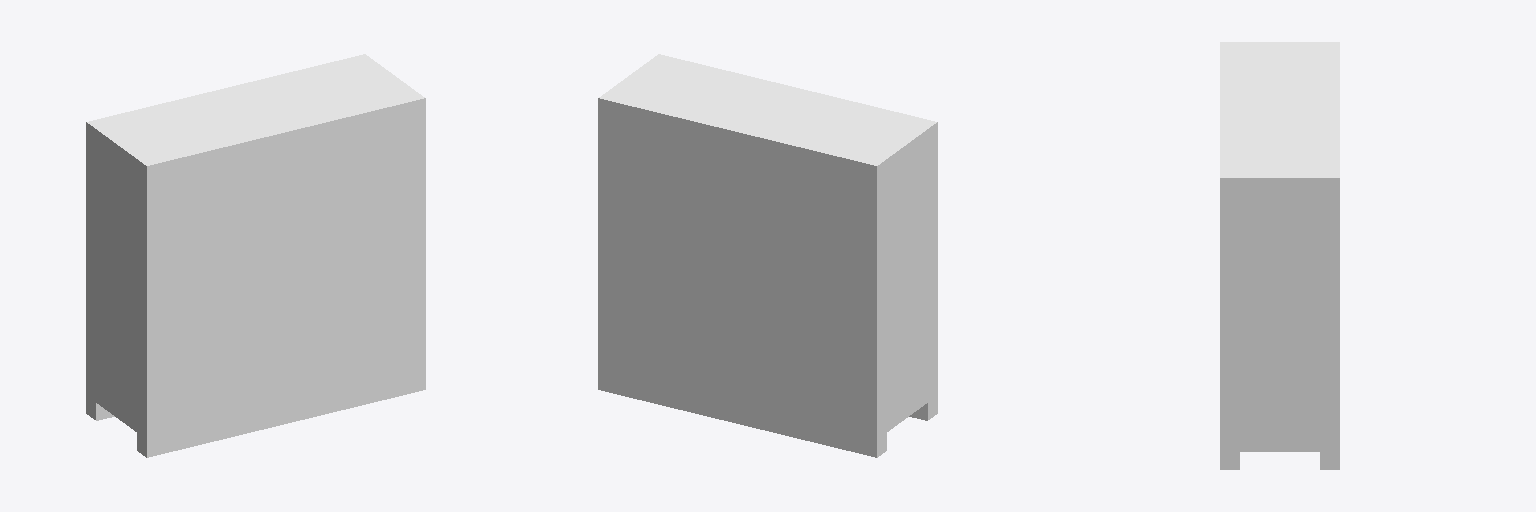
Rendered from civil2-5.obj.
The picture shows the model from 3 angles: view 1: azimuth 30°, elevation 25°; view 2: azimuth 150°, elevation 25°; view 3: azimuth 270°, elevation 25°; orthographic projection.
Visible parts, largest first — view 1: object 1; view 2: object 1; view 3: object 1.
Boxes of the visible parts, x1=… form: object 1: x1=86, y1=54, x2=425, y2=457; object 1: x1=598, y1=54, x2=937, y2=457; object 1: x1=1220, y1=42, x2=1339, y2=469.
Size of the model in its own units: 1.6 by 1.6 by 0.6.